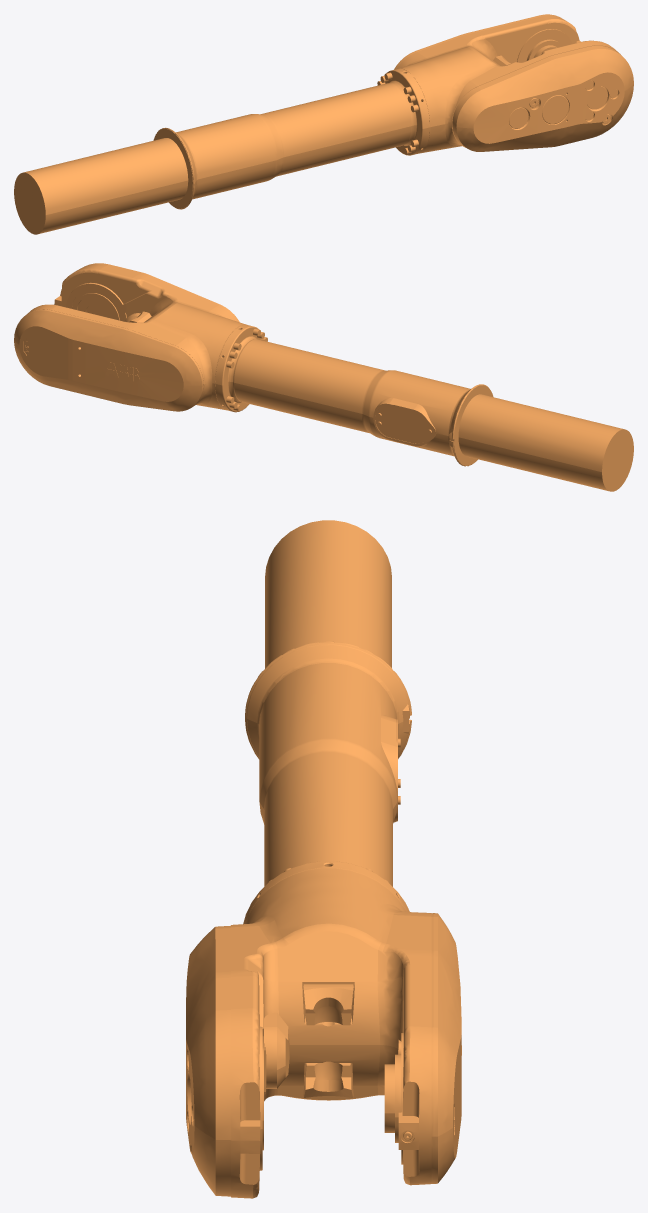
3 renders of one model, top to bottom at view 1: azimuth 30°, elevation 25°; view 2: azimuth 150°, elevation 25°; view 3: azimuth 270°, elevation 25°, orthographic. The views are drawn at different scales.
Visible parts, largest first — view 1: mesh_0; view 2: mesh_0; view 3: mesh_0.
Part boxes in pixels (bbox=[...]): mesh_0: bbox=[14, 14, 633, 234]; mesh_0: bbox=[14, 263, 633, 491]; mesh_0: bbox=[186, 520, 461, 1198].
Bounding box in the file's own units: 1.78 × 0.267 × 0.3689.
